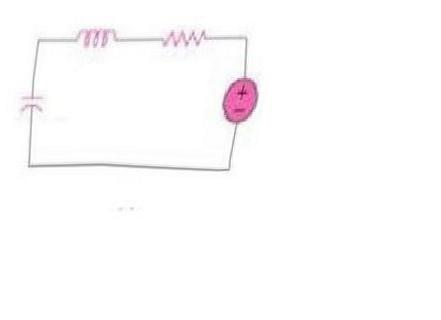Battery: (211, 63, 268, 135)
